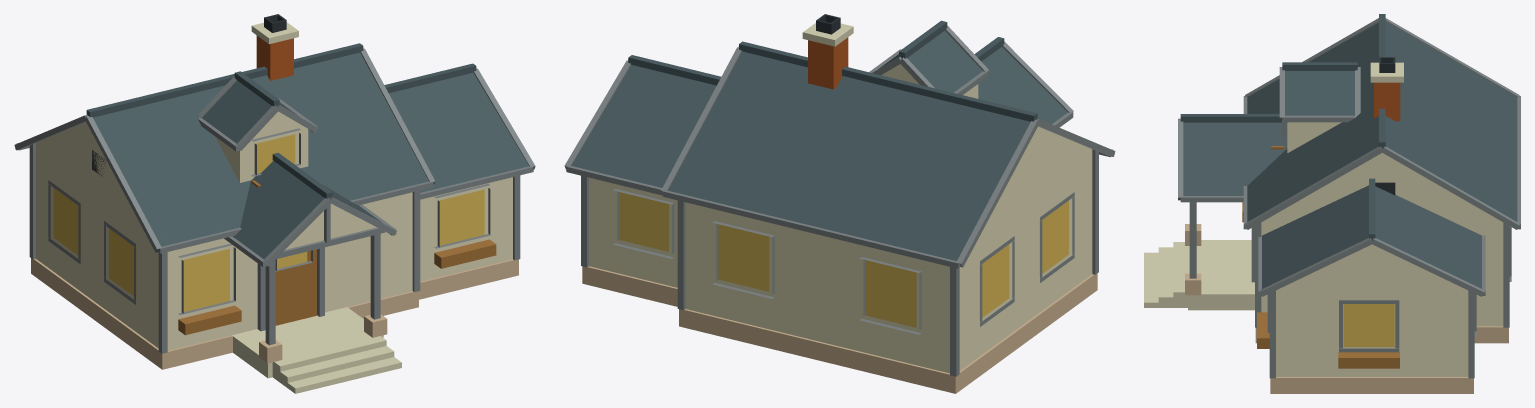
Rendered from House_A_Lv3_4_LOD2.fbx.
3 renders of one model, left to right at view 1: azimuth 30°, elevation 25°; view 2: azimuth 150°, elevation 25°; view 3: azimuth 270°, elevation 25°, orthographic. The views are drawn at different scales.
Parts seen in each view (by area): view 1: House_A_Lv3_4_Low; view 2: House_A_Lv3_4_Low; view 3: House_A_Lv3_4_Low.
Part boxes in pixels (x1=…): House_A_Lv3_4_Low: x1=14, y1=14, x2=535, y2=393; House_A_Lv3_4_Low: x1=564, y1=14, x2=1115, y2=393; House_A_Lv3_4_Low: x1=1144, y1=14, x2=1520, y2=393.
Size of the model in its own units: 14.74 by 9.34 by 12.89.
